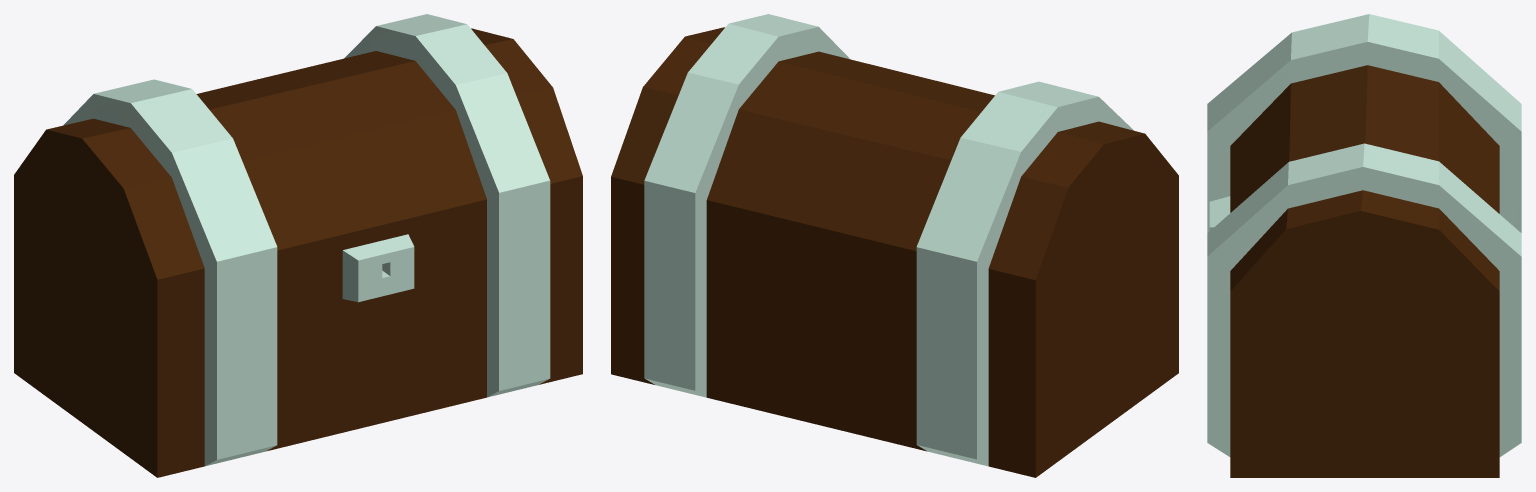
Rendered from cache.gltf.
3 views of the same model, side by side, from view 1: azimuth 30°, elevation 25°; view 2: azimuth 150°, elevation 25°; view 3: azimuth 270°, elevation 25° (orthographic). The views are drawn at different scales.
Visible parts, largest first — view 1: Cube.001; view 2: Cube.001; view 3: Cube.001.
Boxes of the visible parts, x1,y1,x2,y2 form: Cube.001: (14, 14, 582, 477); Cube.001: (611, 14, 1178, 477); Cube.001: (1207, 14, 1521, 477).
Bounding box in the file's own units: 2.02 × 1.4 × 1.38.
